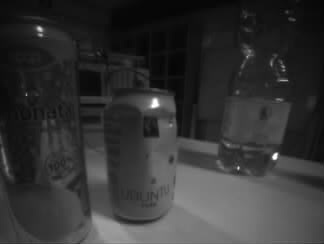Bottle: (216, 1, 298, 178)
Tin can: (1, 16, 91, 244), (102, 87, 179, 223)
